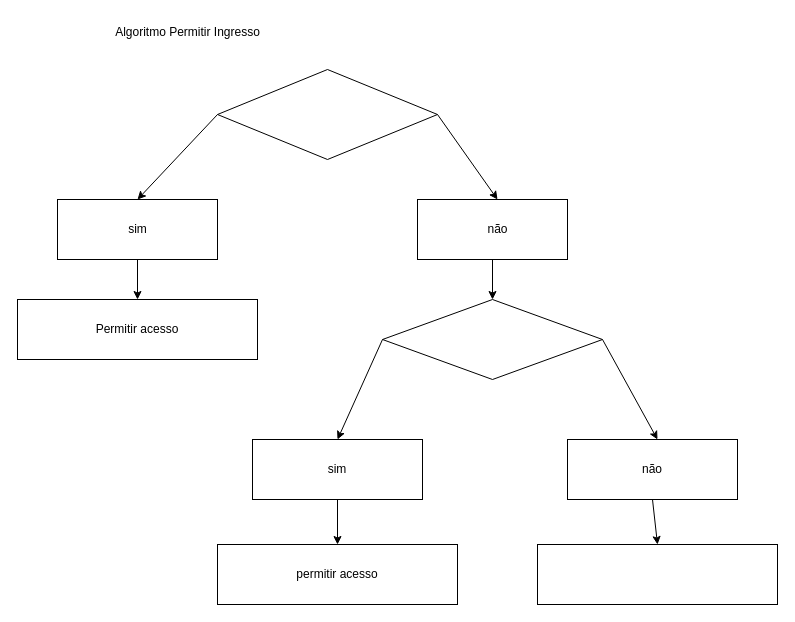
Image size: 795x622. Some labels were removed from this diagram. Each missing label, with the centre of its shape:
"não permitir acesso" goes at (657,574).
"Tem 18 anos de idade ou mais?" goes at (327,114).
"Tem acompanhante?" goes at (492,339).
